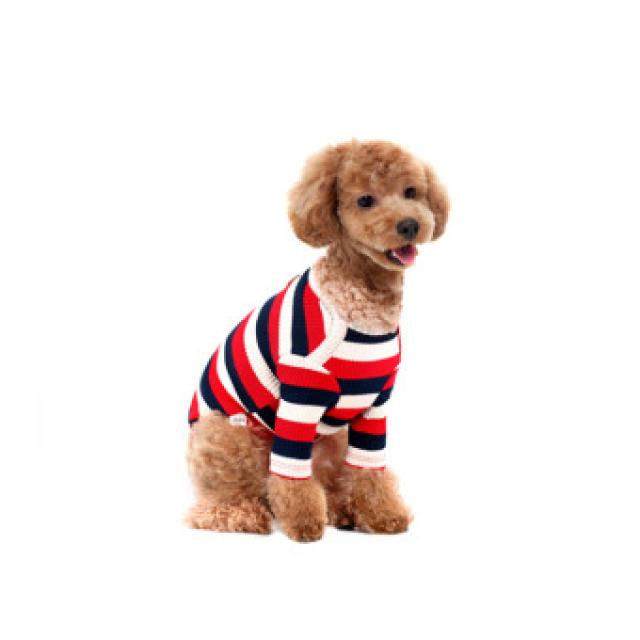cloth: (189, 269, 400, 478)
